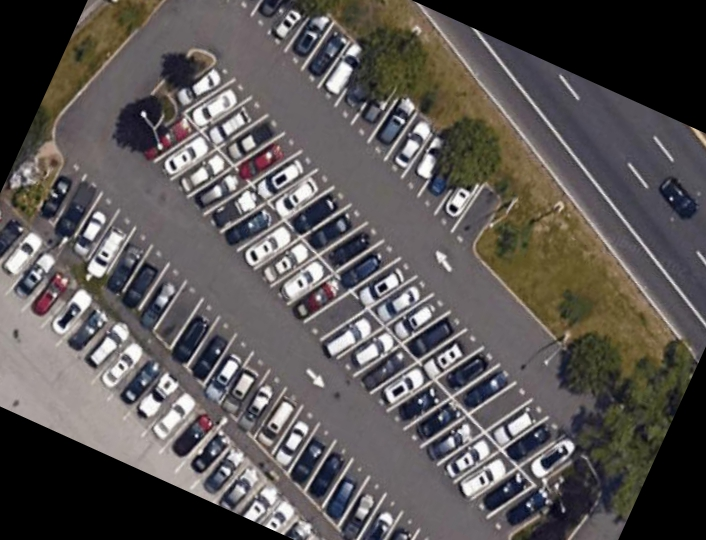parkingspot: (121, 56, 590, 540), (33, 148, 435, 540), (0, 194, 325, 540), (233, 0, 505, 257)
